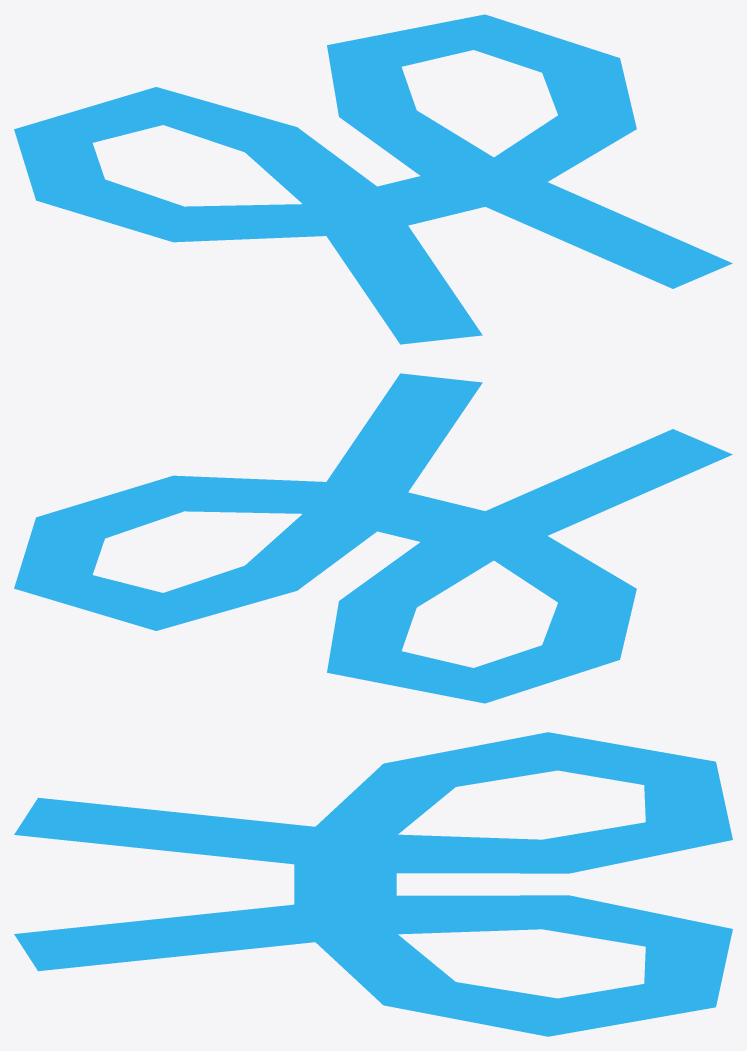
Rendered from hieroglyph_002.glb.
3 views of the same model, one above another, from view 1: azimuth 30°, elevation 25°; view 2: azimuth 150°, elevation 25°; view 3: azimuth 270°, elevation 25° (orthographic). The views are drawn at different scales.
Visible parts, largest first — view 1: hieroglyph_002; view 2: hieroglyph_002; view 3: hieroglyph_002.
Part boxes in pixels (x1,y1,x2,y2): hieroglyph_002: (14,14,732,344); hieroglyph_002: (14,373,732,703); hieroglyph_002: (14,732,732,1036).
Bounding box in the file's own units: 0.6541 × 0 × 0.6525.
1 material, 1 textured.
